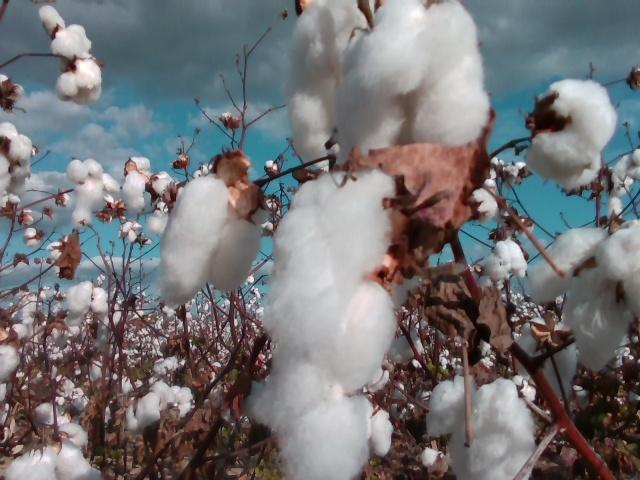cotton_ready: (249, 169, 395, 480), (338, 0, 492, 162), (525, 222, 640, 370), (288, 0, 368, 170), (160, 176, 266, 302), (426, 372, 535, 480), (524, 78, 619, 188), (39, 5, 101, 106), (515, 316, 577, 404), (0, 439, 102, 480), (69, 158, 120, 231), (0, 121, 35, 208), (124, 379, 174, 433), (35, 402, 87, 446), (147, 171, 180, 230), (65, 280, 109, 323), (485, 238, 528, 281), (0, 322, 29, 381), (123, 157, 151, 213), (470, 192, 499, 221), (173, 385, 194, 422)
